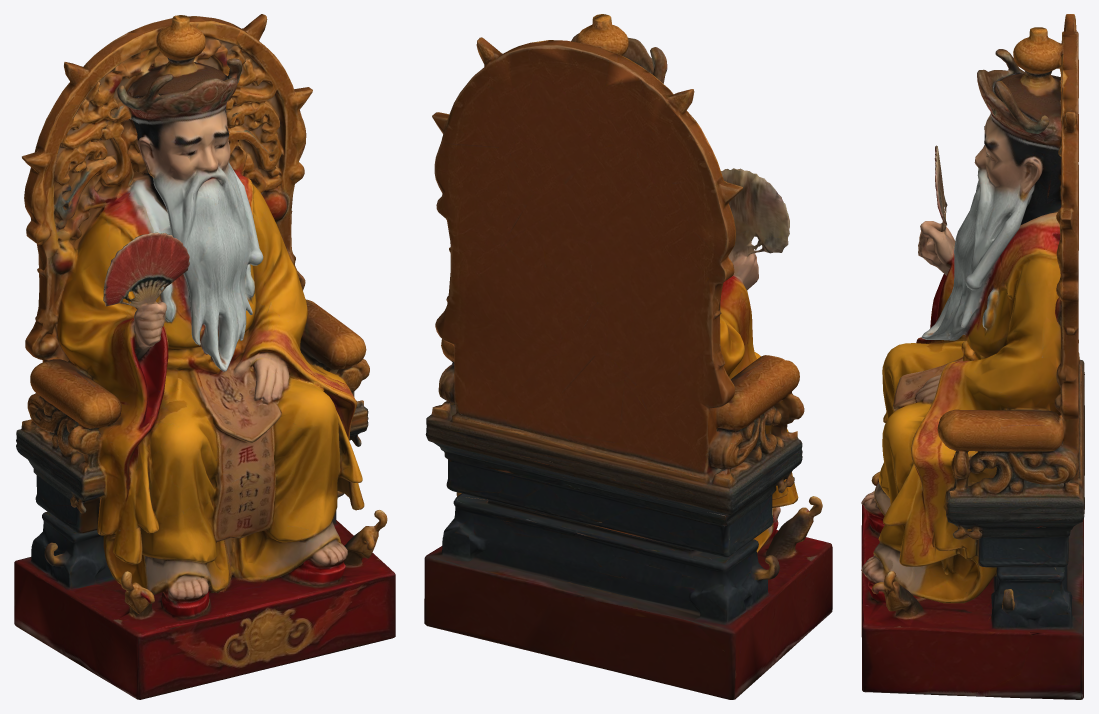
The model's file is deity_daode.glb.
The picture shows the model from 3 angles, left to right: view 1: azimuth 30°, elevation 25°; view 2: azimuth 150°, elevation 25°; view 3: azimuth 270°, elevation 25°; orthographic projection. The views are drawn at different scales.
Bounding box in the file's own units: 1.01 × 1.9 × 0.6431.
1 material, 1 textured.
